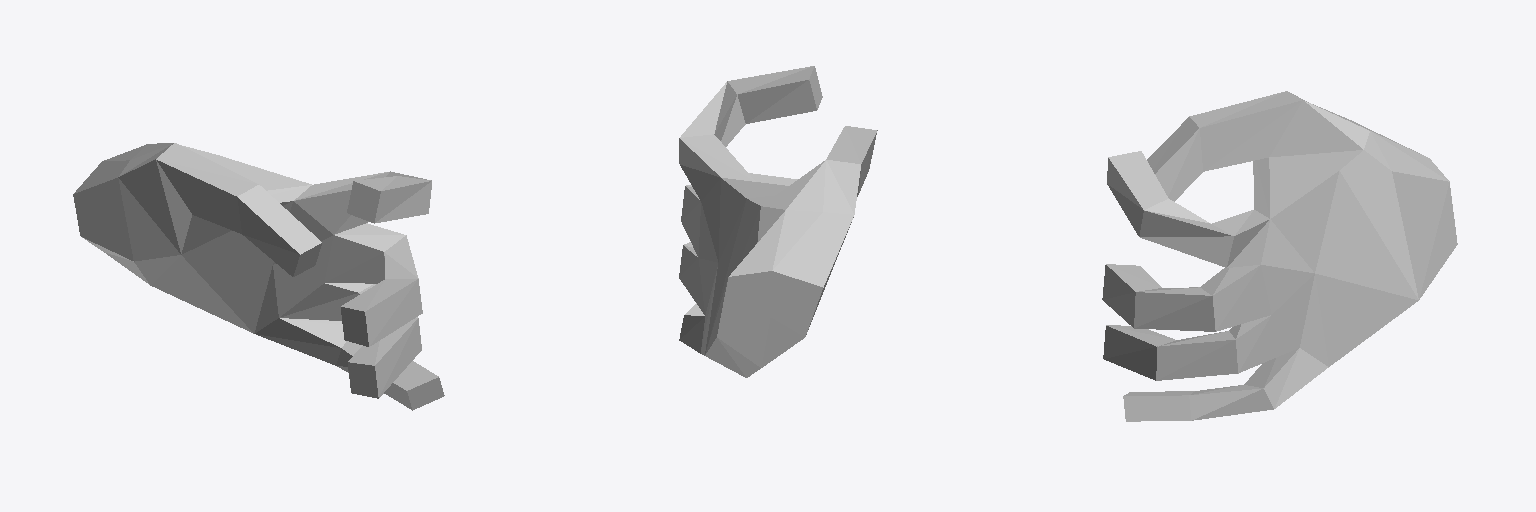
Rendered from Flute_LeftHand04.obj.
3 views of the same model, side by side, from view 1: azimuth 30°, elevation 25°; view 2: azimuth 150°, elevation 25°; view 3: azimuth 270°, elevation 25° (orthographic).
Parts seen in each view (by area): view 1: Converted object 0; view 2: Converted object 0; view 3: Converted object 0.
Boxes of the visible parts, <box> form: Converted object 0: <box>73,143,444,410</box>; Converted object 0: <box>679,66,877,377</box>; Converted object 0: <box>1102,91,1457,421</box>.
Size of the model in its own units: 3.65 by 3.57 by 4.72.